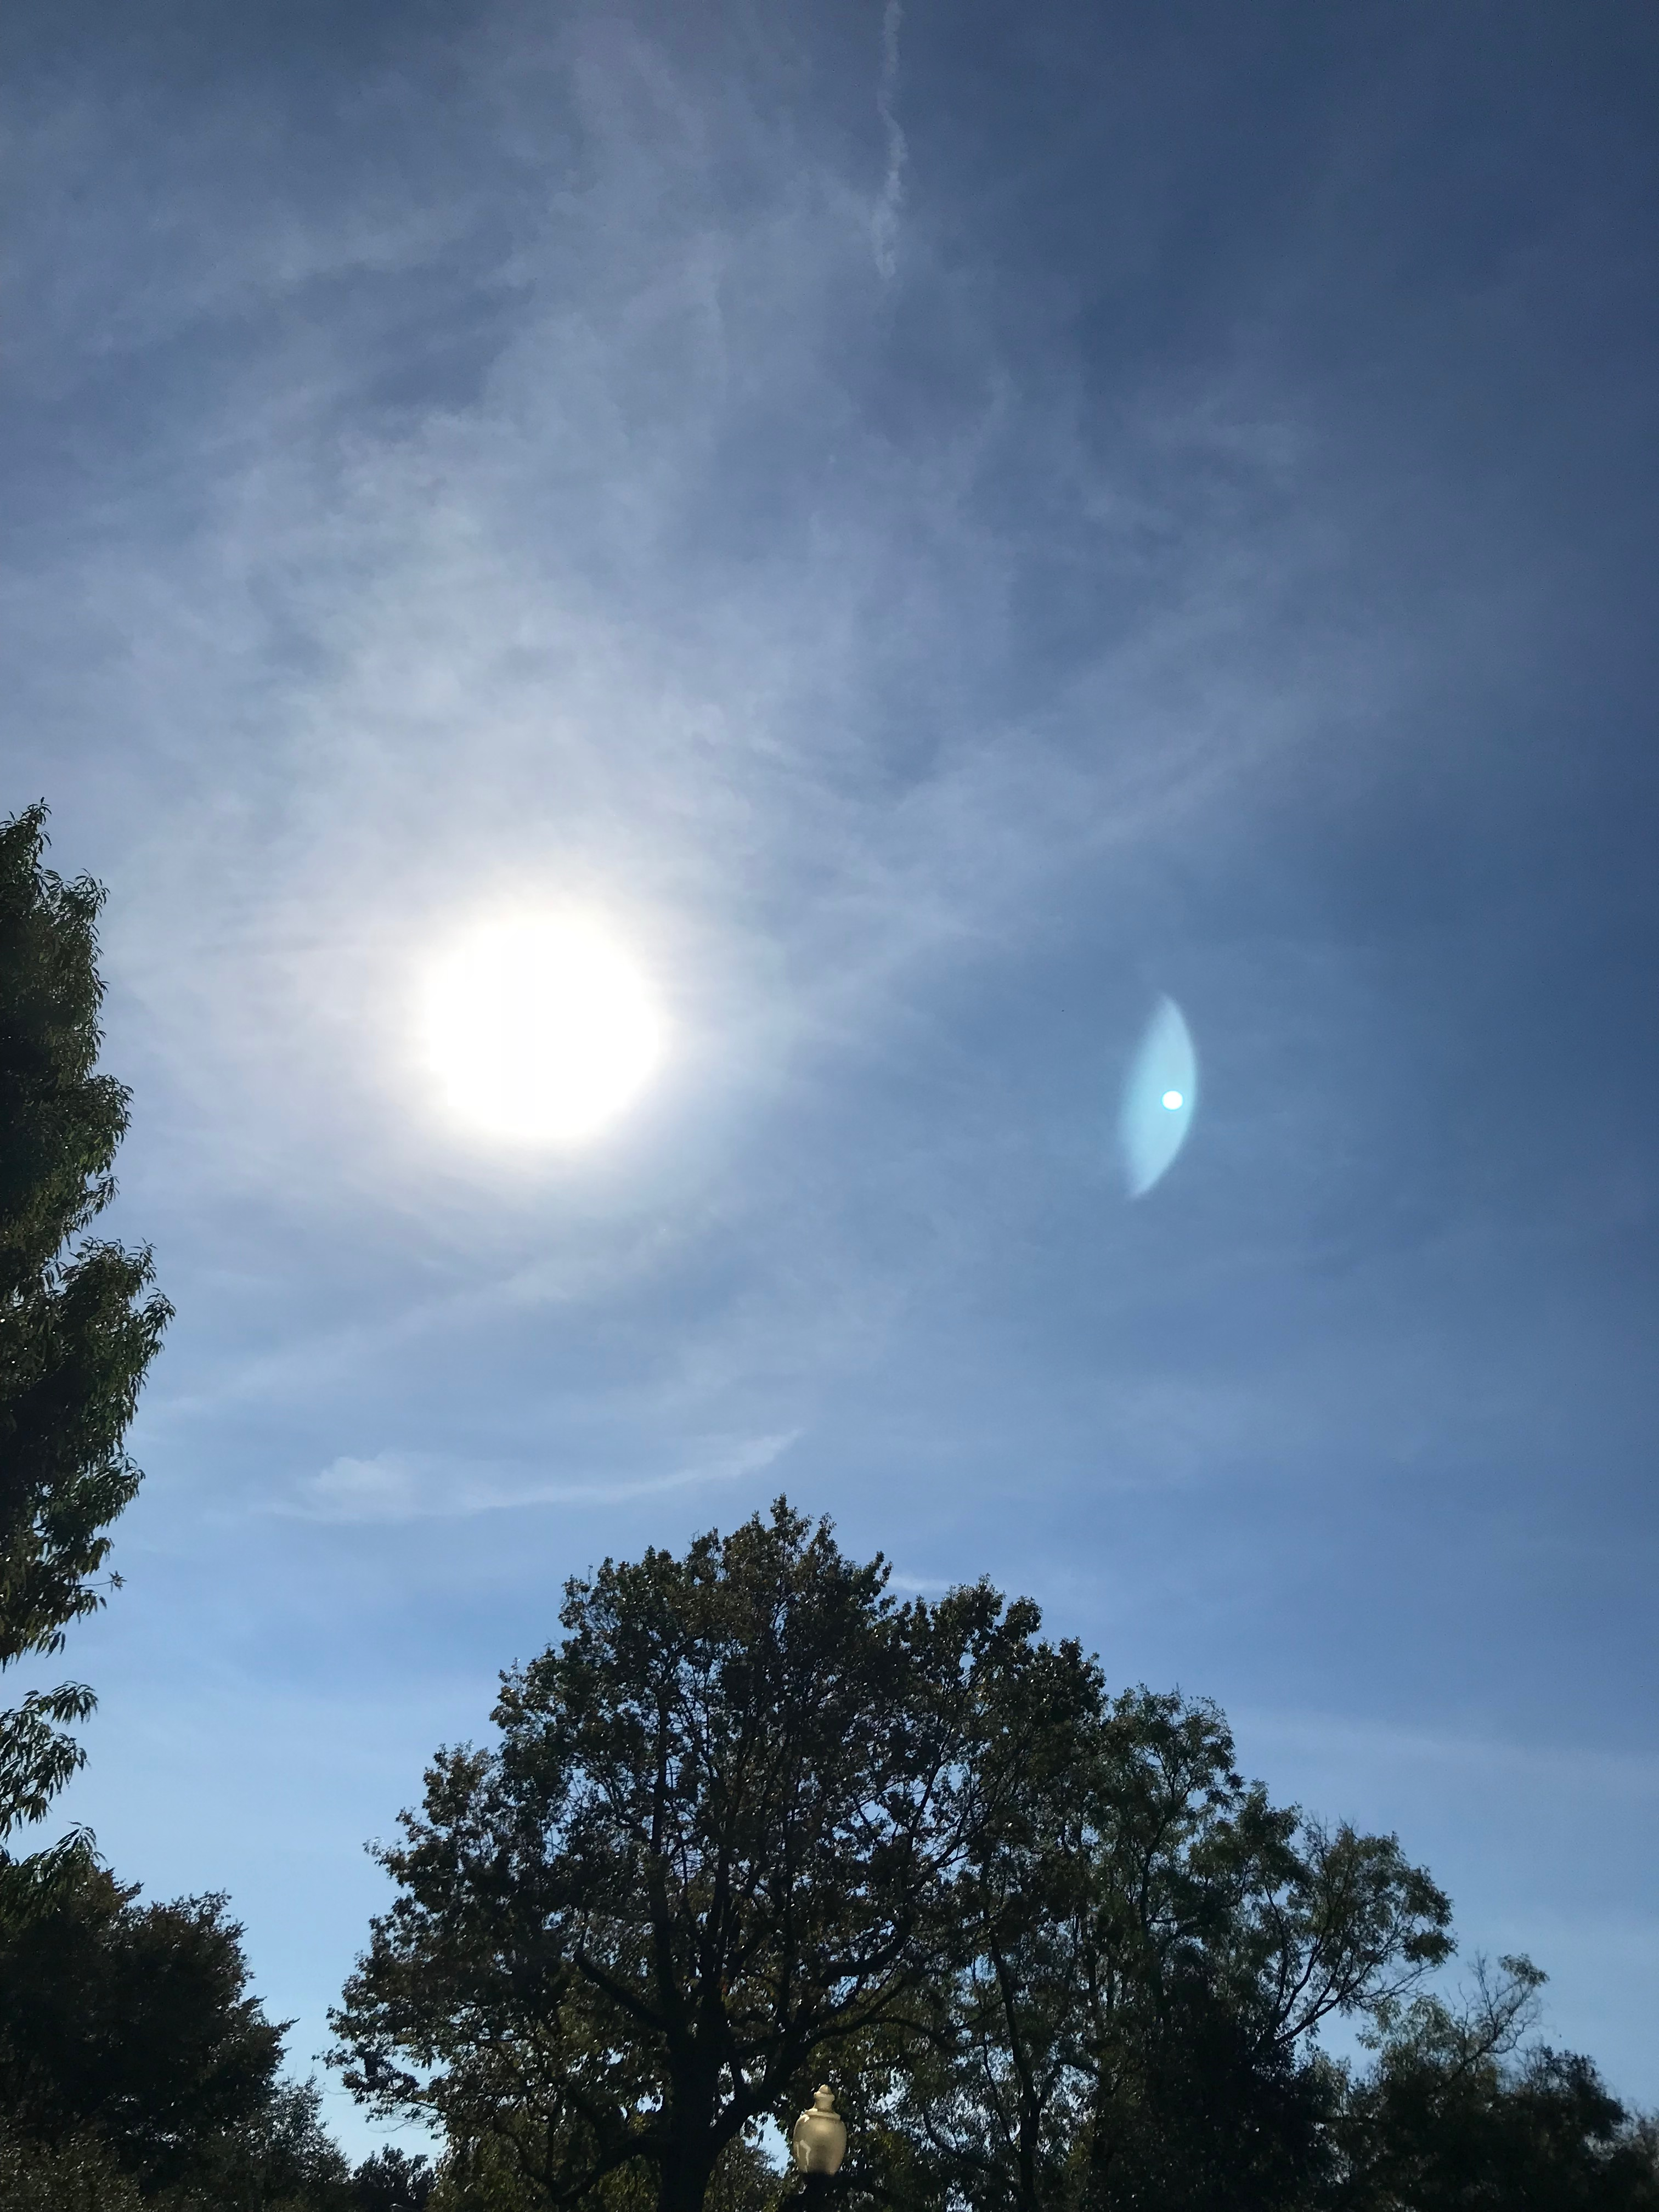flare: (1161, 1089, 1185, 1111)
